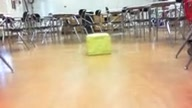cube: (85, 33, 111, 56)
